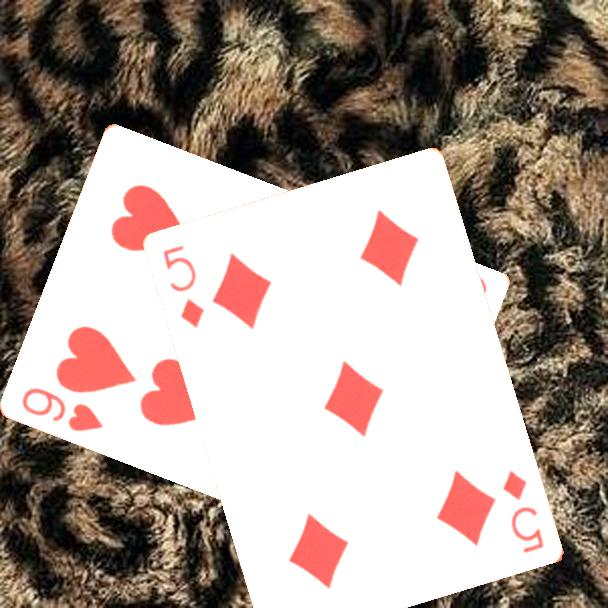d05: (160, 242, 208, 332), (500, 467, 547, 556)
h09: (18, 383, 107, 434)
